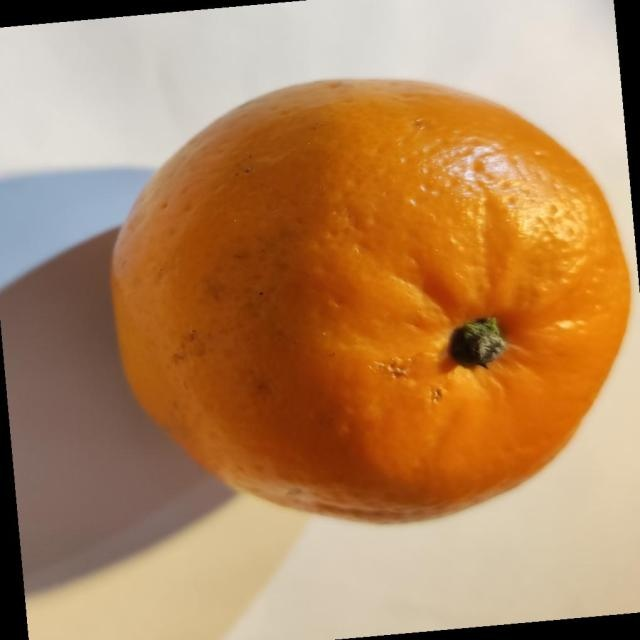agrume: (108, 76, 632, 524)
